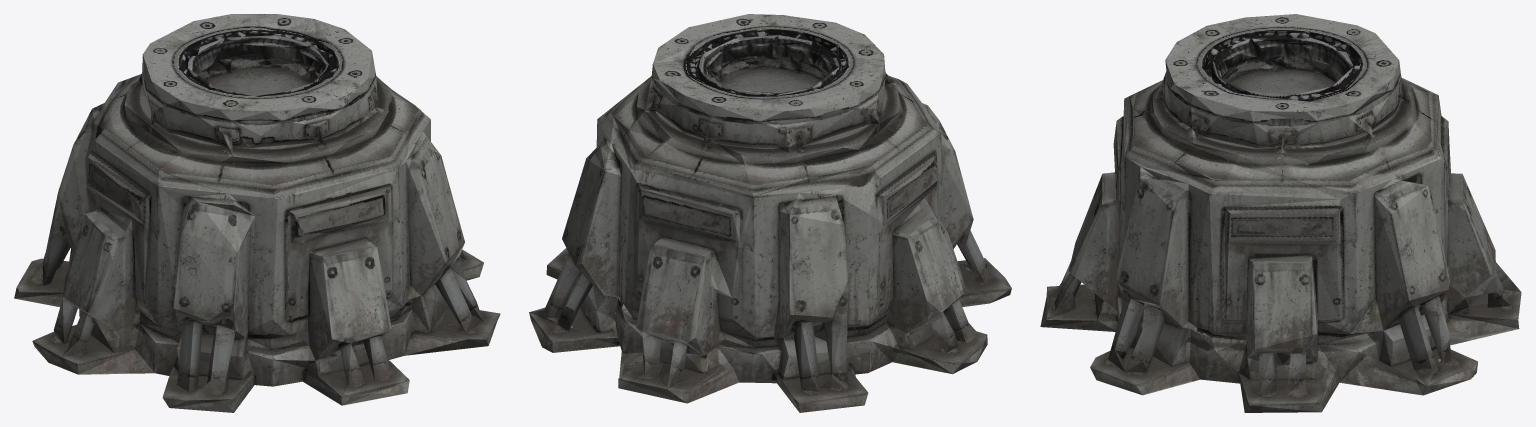
File: struct.ranged_defense.base.glb
3 renders of one model, left to right at view 1: azimuth 30°, elevation 25°; view 2: azimuth 150°, elevation 25°; view 3: azimuth 270°, elevation 25°, orthographic.
Parts seen in each view (by area): view 1: body; view 2: body; view 3: body.
Boxes of the visible parts, <box> form: body: <box>14,14,500,412</box>; body: <box>529,14,1011,412</box>; body: <box>1040,14,1521,412</box>.
Bounding box in the file's own units: 1.3 × 0.7437 × 1.29.
1 material, 1 textured.
